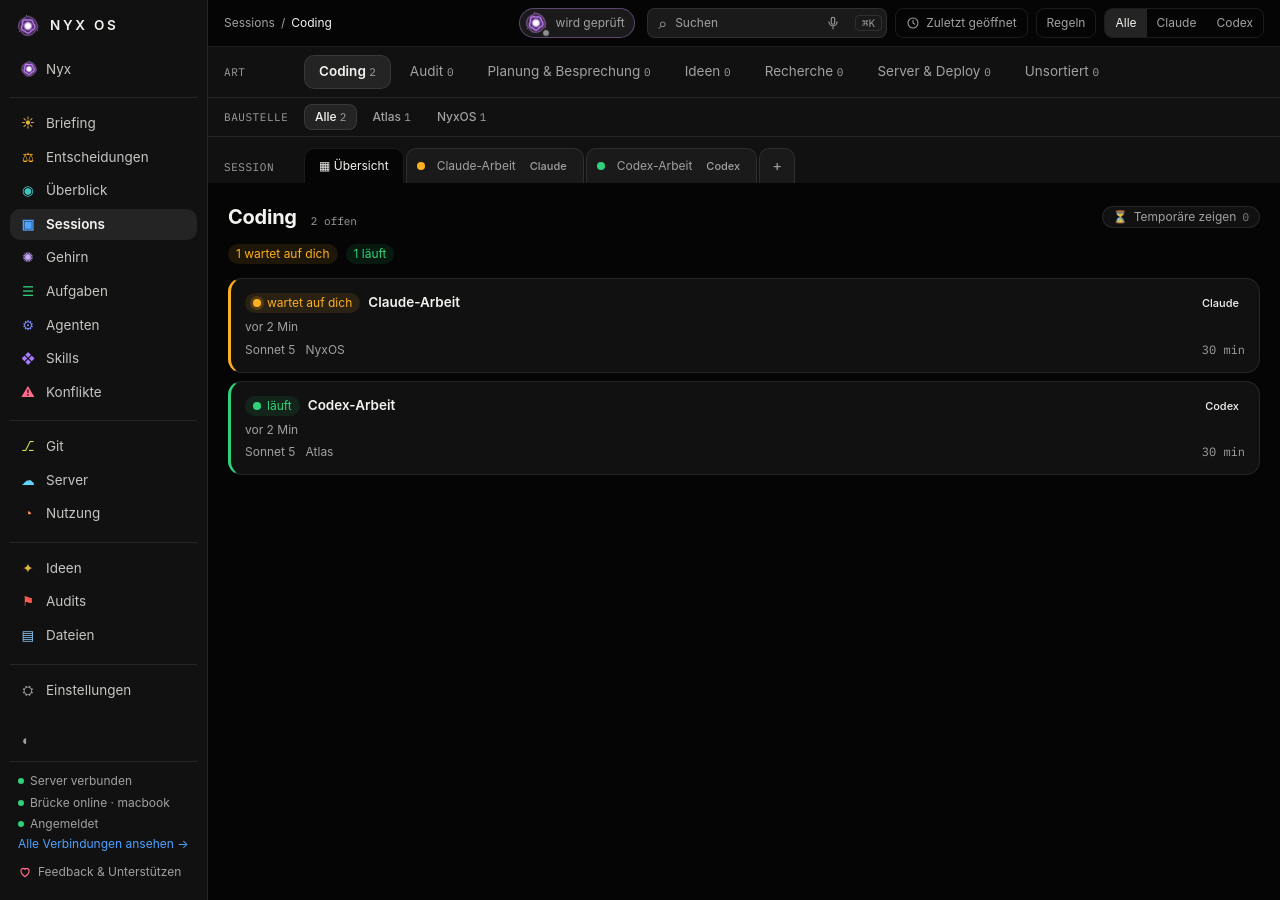
it: flacher Aktiv-Stil, eigener Tooltip › Session-Tab: kein nativer title, der Hinweis erscheint als eigener Tooltip
Hover over the tab "Claude-Arbeit Claude": (495, 166) [406, 148, 584, 184]
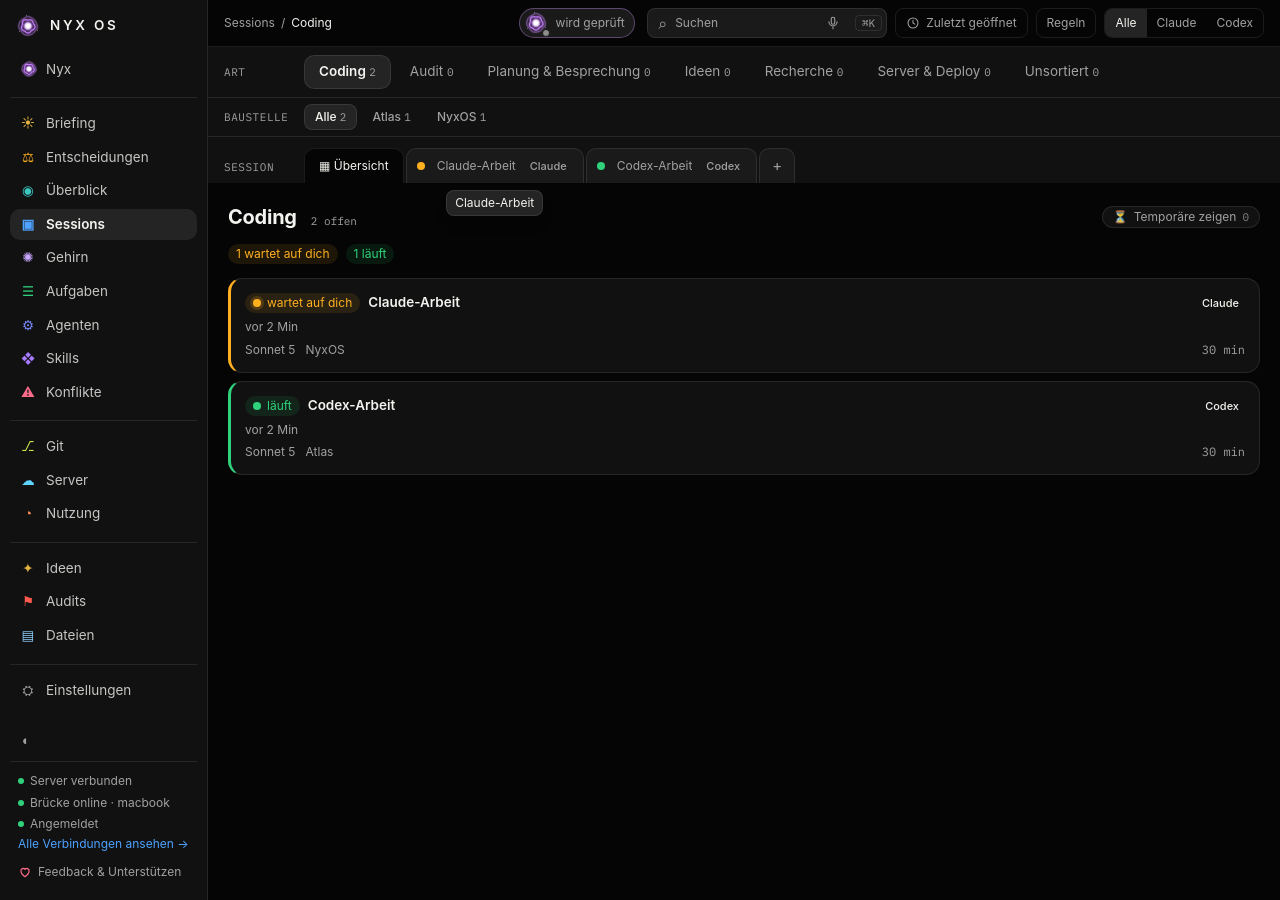
Result: the tooltip reads "Claude-Arbeit" at [455, 195, 534, 210]
